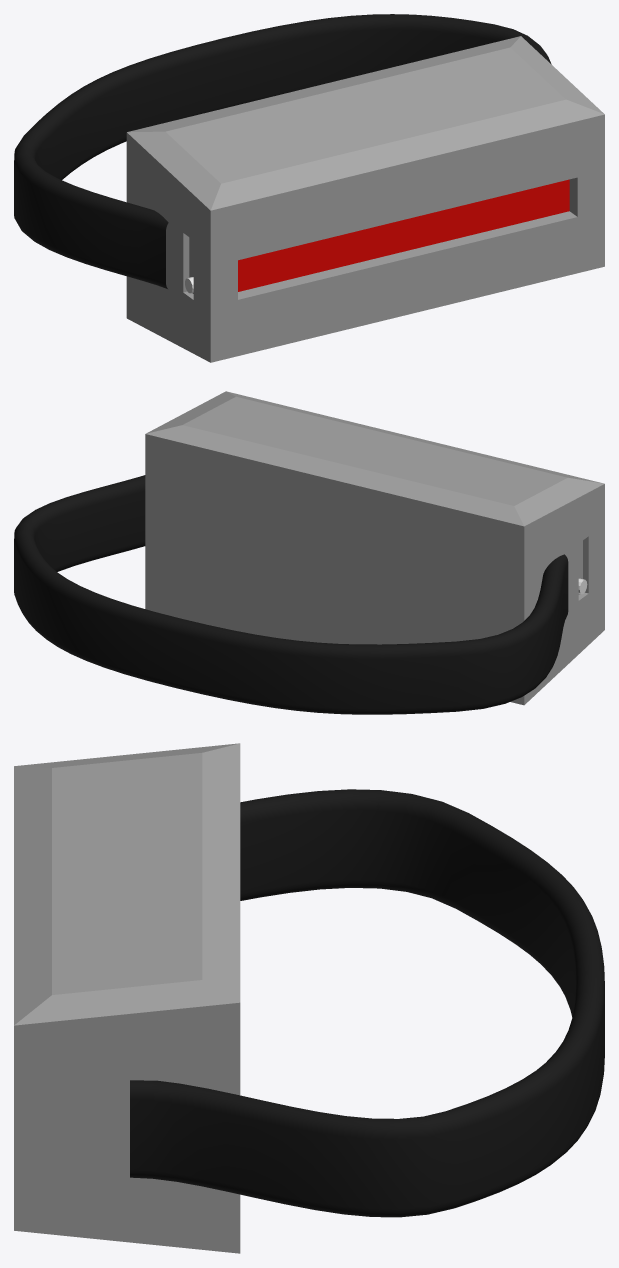
File: viewfinder.fbx
The picture shows the model from 3 angles, top to bottom: view 1: azimuth 30°, elevation 25°; view 2: azimuth 150°, elevation 25°; view 3: azimuth 270°, elevation 25°; orthographic projection. The views are drawn at different scales.
Parts seen in each view (by area): view 1: Cube, BezierCurve; view 2: Cube, BezierCurve; view 3: Cube, BezierCurve.
Boxes of the visible parts, x1,y1,x2,y2 form: Cube: [126, 36, 604, 362]; BezierCurve: [14, 14, 551, 288]; Cube: [145, 391, 604, 705]; BezierCurve: [14, 475, 568, 714]; Cube: [14, 743, 240, 1253]; BezierCurve: [130, 789, 604, 1217].
Size of the model in its own units: 714 by 258 by 522.
